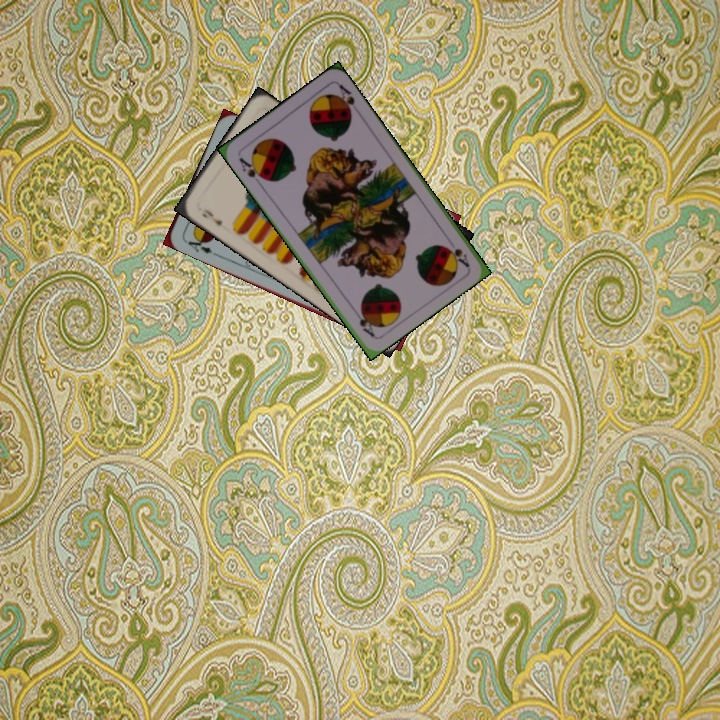E9: (198, 205, 225, 228)
EA: (180, 231, 219, 258)
SA: (235, 153, 268, 183), (442, 242, 472, 270)
